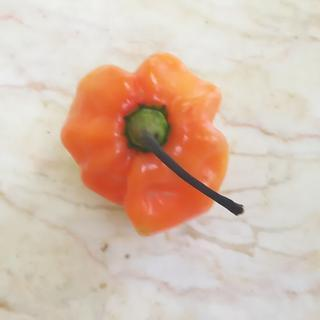Grade-B: (55, 42, 232, 238)
